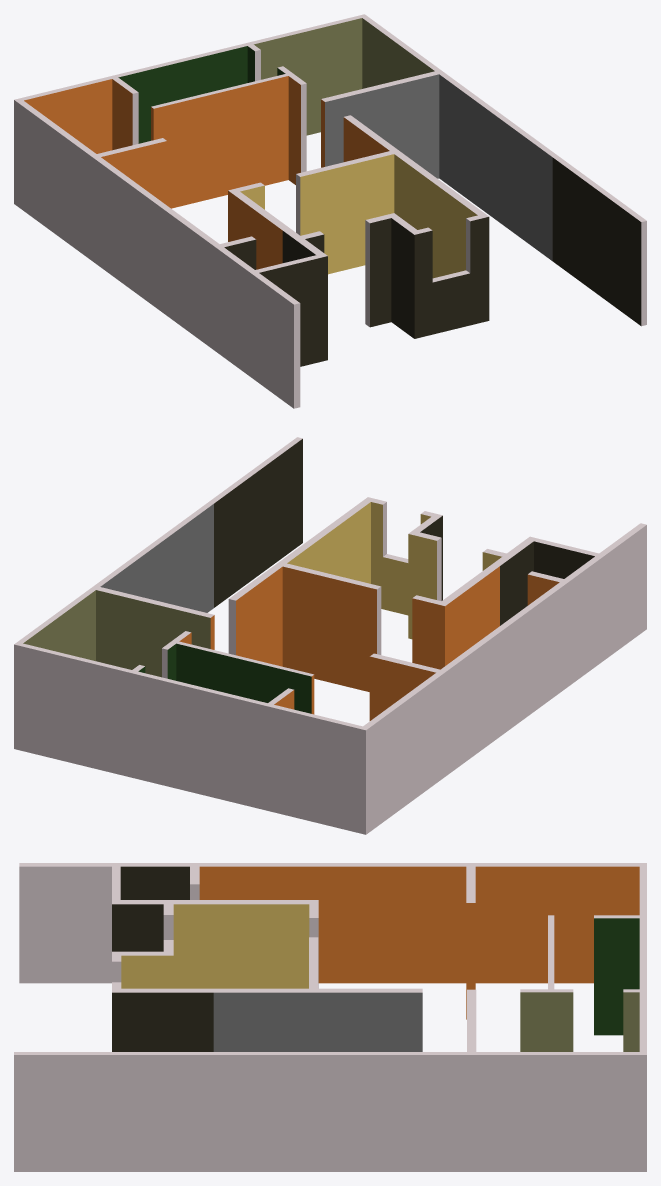
The model's file is Envi 2 v1.fbx.
3 views of the same model, one above another, from view 1: azimuth 30°, elevation 25°; view 2: azimuth 150°, elevation 25°; view 3: azimuth 270°, elevation 25° (orthographic). The views are drawn at different scales.
Visible parts, largest first — view 1: Cube; view 2: Cube; view 3: Cube.
Boxes of the visible parts, <box> form: Cube: <box>14,14,646,408</box>; Cube: <box>14,437,646,834</box>; Cube: <box>14,863,646,1171</box>.
Bounding box in the file's own units: 2066 × 586 × 2879.
